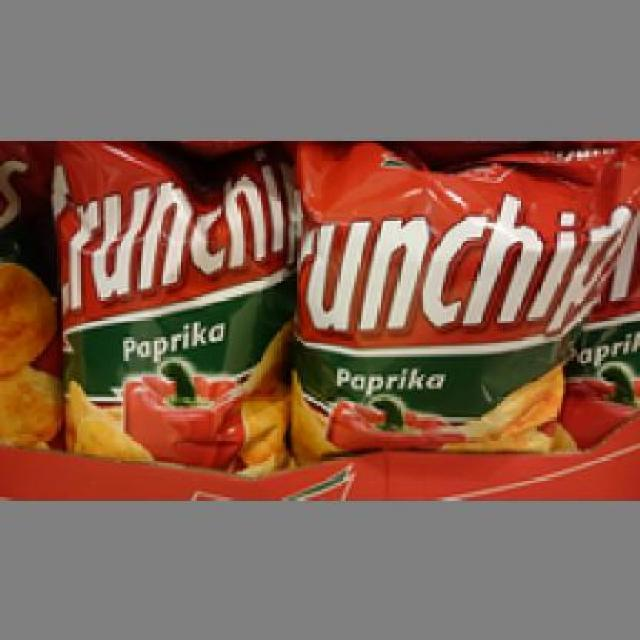Chips: (288, 148, 638, 464), (52, 146, 288, 474)
